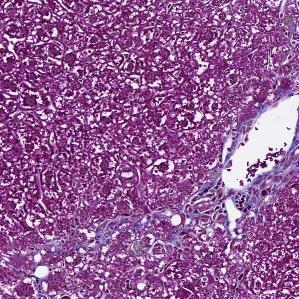fibrosis: (171, 181, 266, 234)
